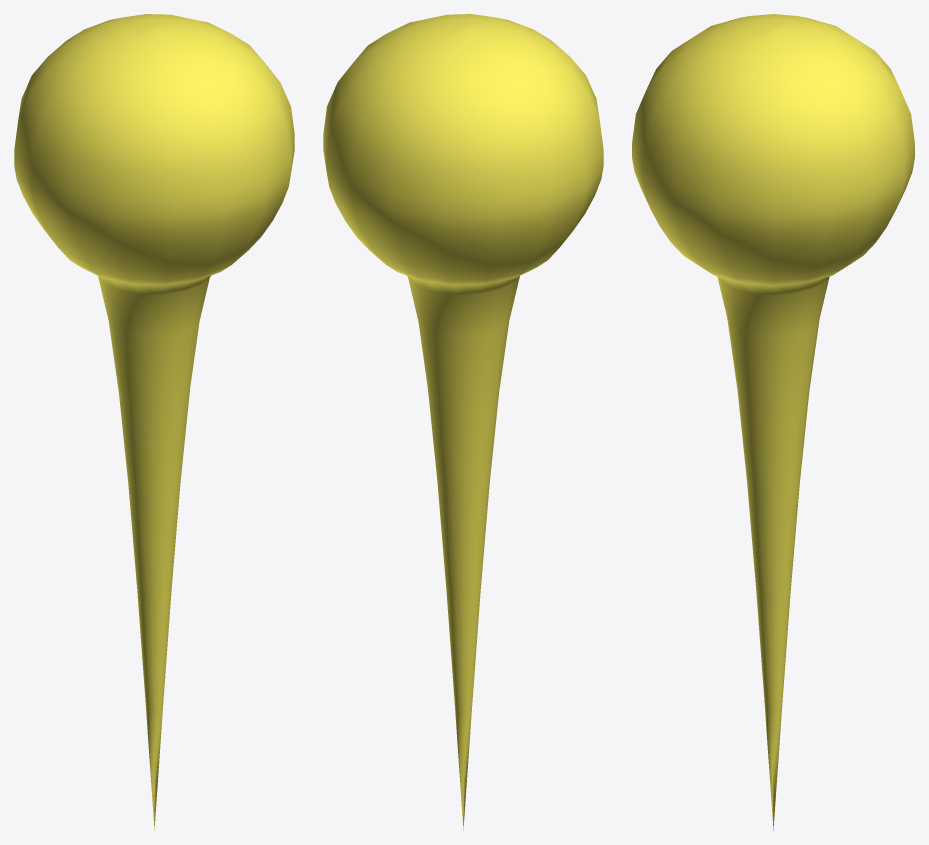
The model's file is thumbtack_yellow.obj.
3 views of the same model, side by side, from view 1: azimuth 30°, elevation 25°; view 2: azimuth 150°, elevation 25°; view 3: azimuth 270°, elevation 25° (orthographic).
Visible parts, largest first — view 1: Line004; view 2: Line004; view 3: Line004.
Part boxes in pixels (x1,y1,x2,y2): Line004: [14, 14, 294, 830]; Line004: [323, 14, 603, 830]; Line004: [632, 14, 914, 830].
Size of the model in its own units: 80 by 250 by 80.
